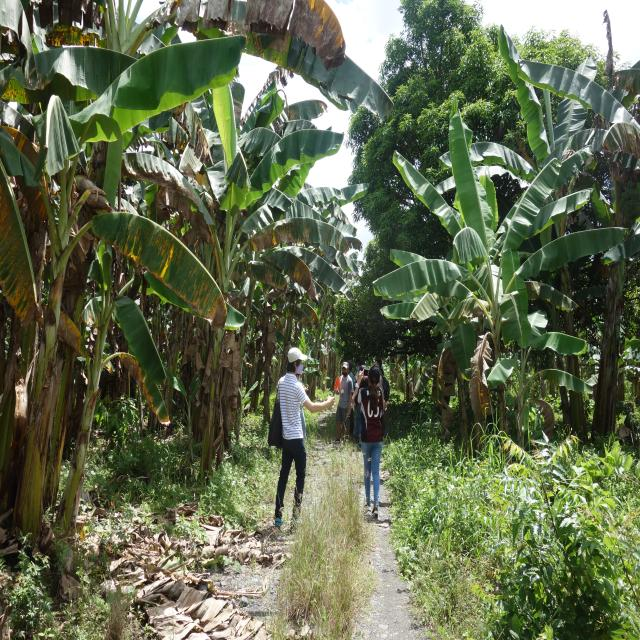Banana-plant: (0, 177, 93, 567), (54, 346, 109, 564), (192, 249, 239, 479)
